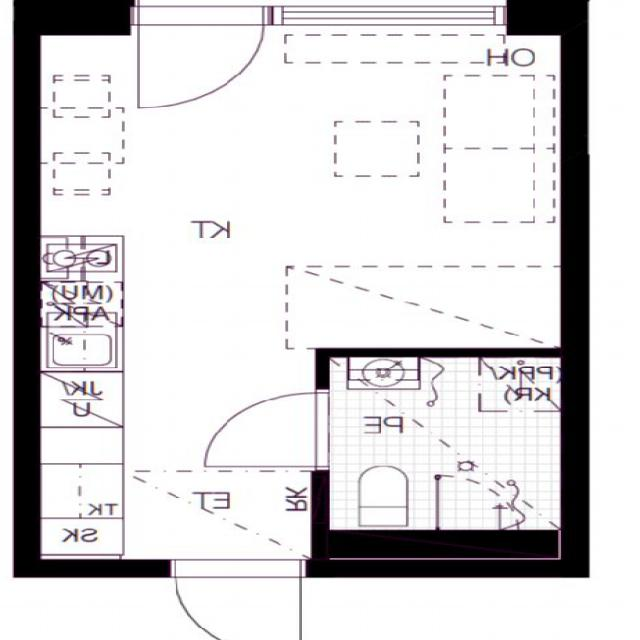door: (140, 0, 263, 116), (202, 394, 331, 466)
